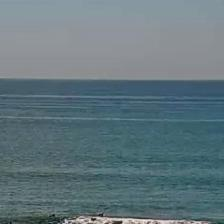surfer: (48, 213, 56, 218), (98, 212, 104, 218), (3, 221, 11, 223)
